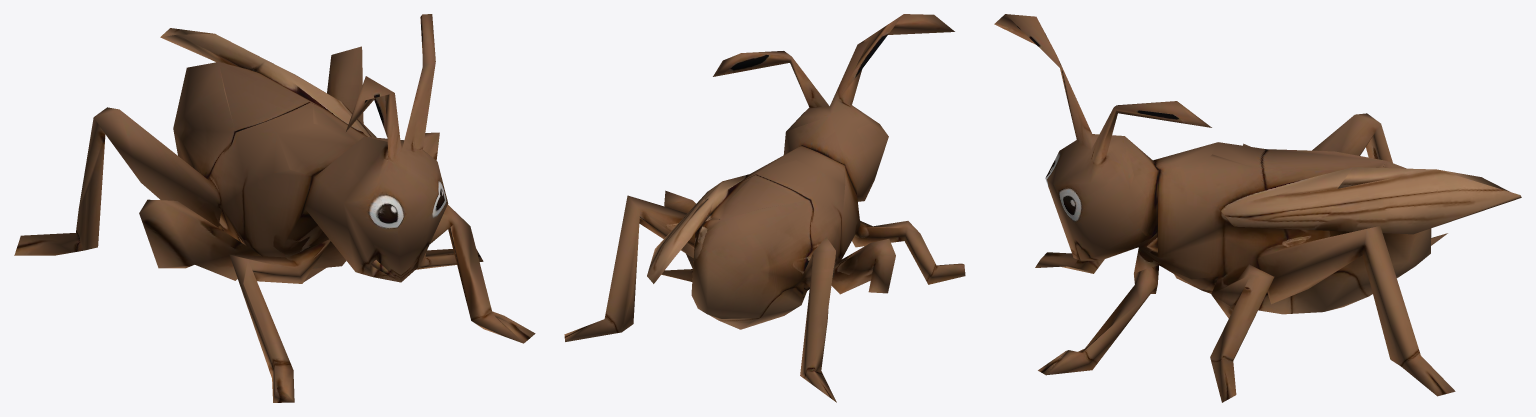
File: toad-cricket.glb
3 views of the same model, side by side, from view 1: azimuth 30°, elevation 25°; view 2: azimuth 150°, elevation 25°; view 3: azimuth 270°, elevation 25° (orthographic). The views are drawn at different scales.
Visible parts, largest first — view 1: lo; view 2: lo; view 3: lo.
Boxes of the visible parts, bbox=[...] form: lo: bbox=[14, 14, 535, 402]; lo: bbox=[564, 14, 965, 402]; lo: bbox=[994, 14, 1521, 402].
Size of the model in its own units: 0.0281 by 0.0239 by 0.0396.
Materials: 1 (1 with a texture image).
